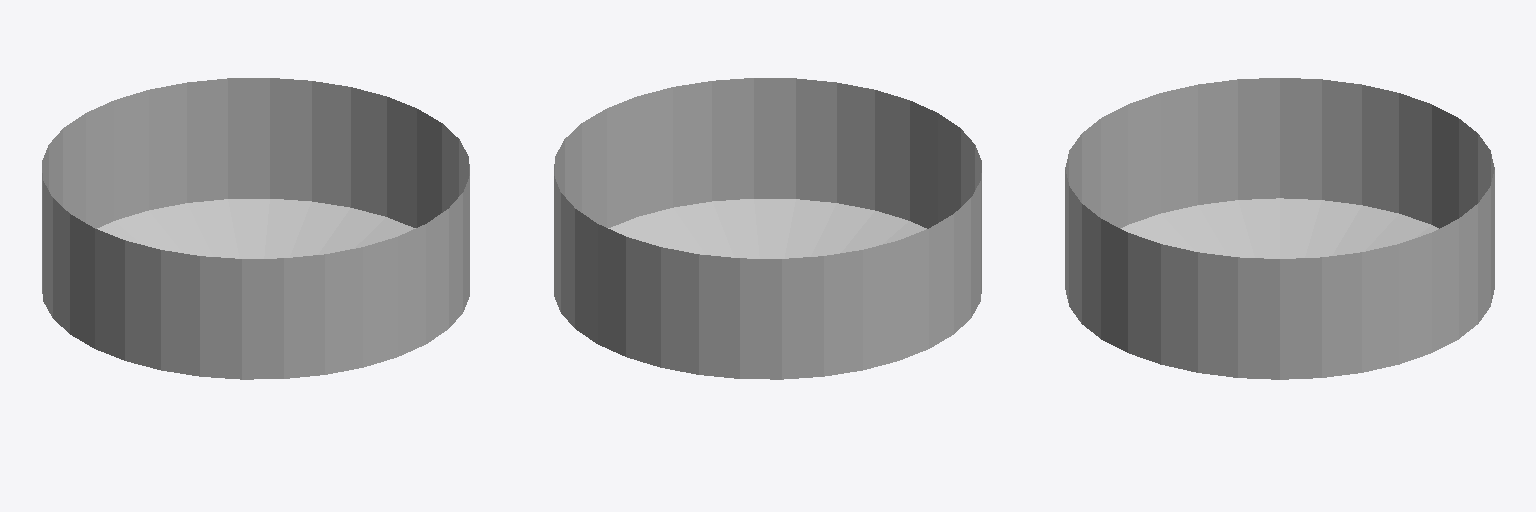
The model's file is net.obj.
The picture shows the model from 3 angles: view 1: azimuth 30°, elevation 25°; view 2: azimuth 150°, elevation 25°; view 3: azimuth 270°, elevation 25°; orthographic projection.
Parts seen in each view (by area): view 1: net_Cone; view 2: net_Cone; view 3: net_Cone.
Boxes of the visible parts, <box> form: net_Cone: <box>42,78,469,379</box>; net_Cone: <box>554,78,981,379</box>; net_Cone: <box>1065,78,1494,379</box>.
Size of the model in its own units: 2 by 0.9 by 2.